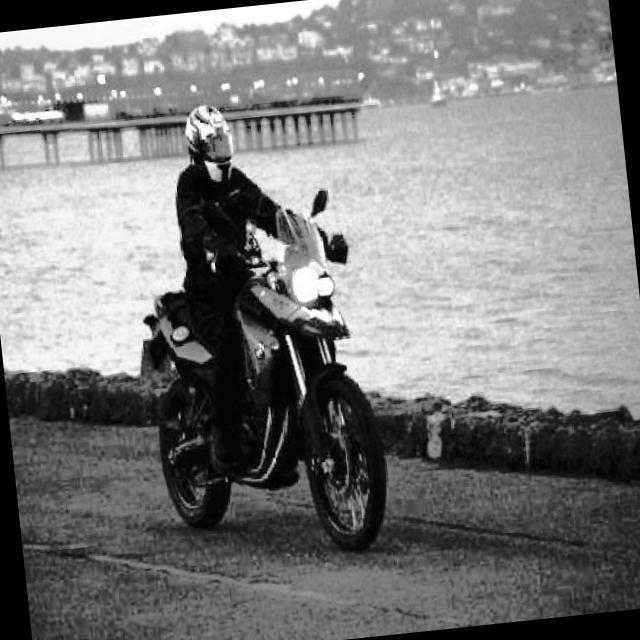Motorcycle: (130, 168, 404, 571)
Person: (145, 74, 360, 356)
